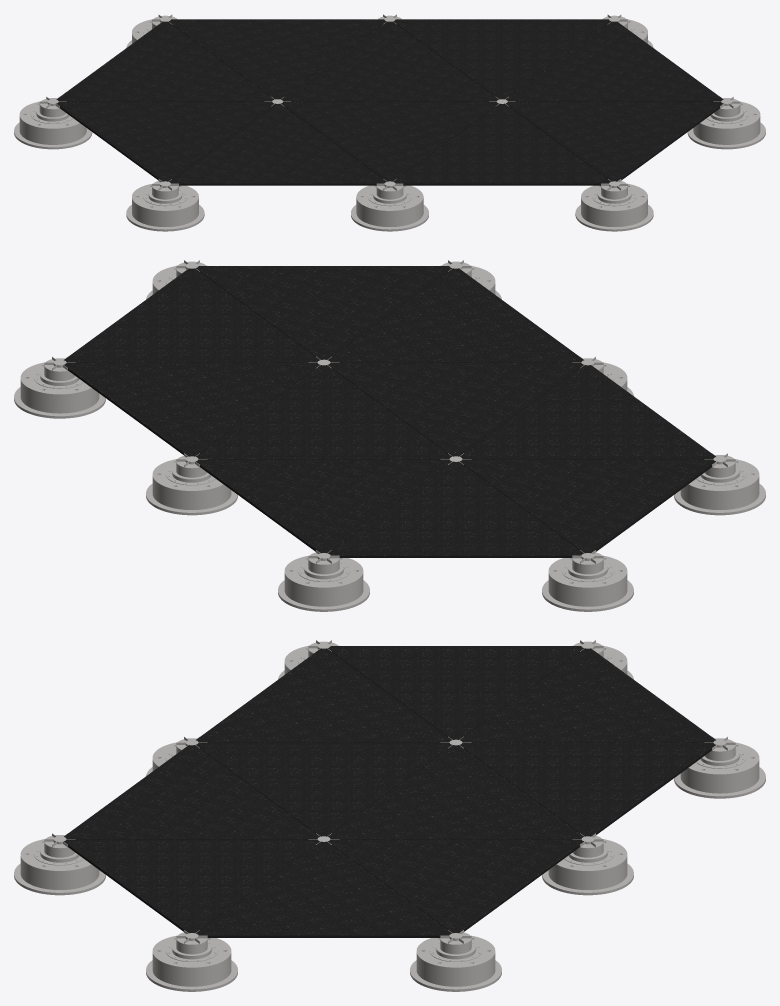
File: Gå sten færdig 1.glb
3 views of the same model, one above another, from view 1: azimuth 30°, elevation 25°; view 2: azimuth 150°, elevation 25°; view 3: azimuth 270°, elevation 25° (orthographic). The views are drawn at different scales.
Visible parts, largest first — view 1: Solid1 (×17); view 2: Solid1 (×18); view 3: Solid1 (×18).
Part boxes in pixels (x1,y1,x2,y2): Solid1 (×17): (14, 14, 765, 231); Solid1 (×18): (14, 260, 765, 611); Solid1 (×18): (14, 640, 765, 991).
Size of the model in its own units: 1.48 by 0.077 by 1.43.
Materials: 4 (1 with a texture image).
